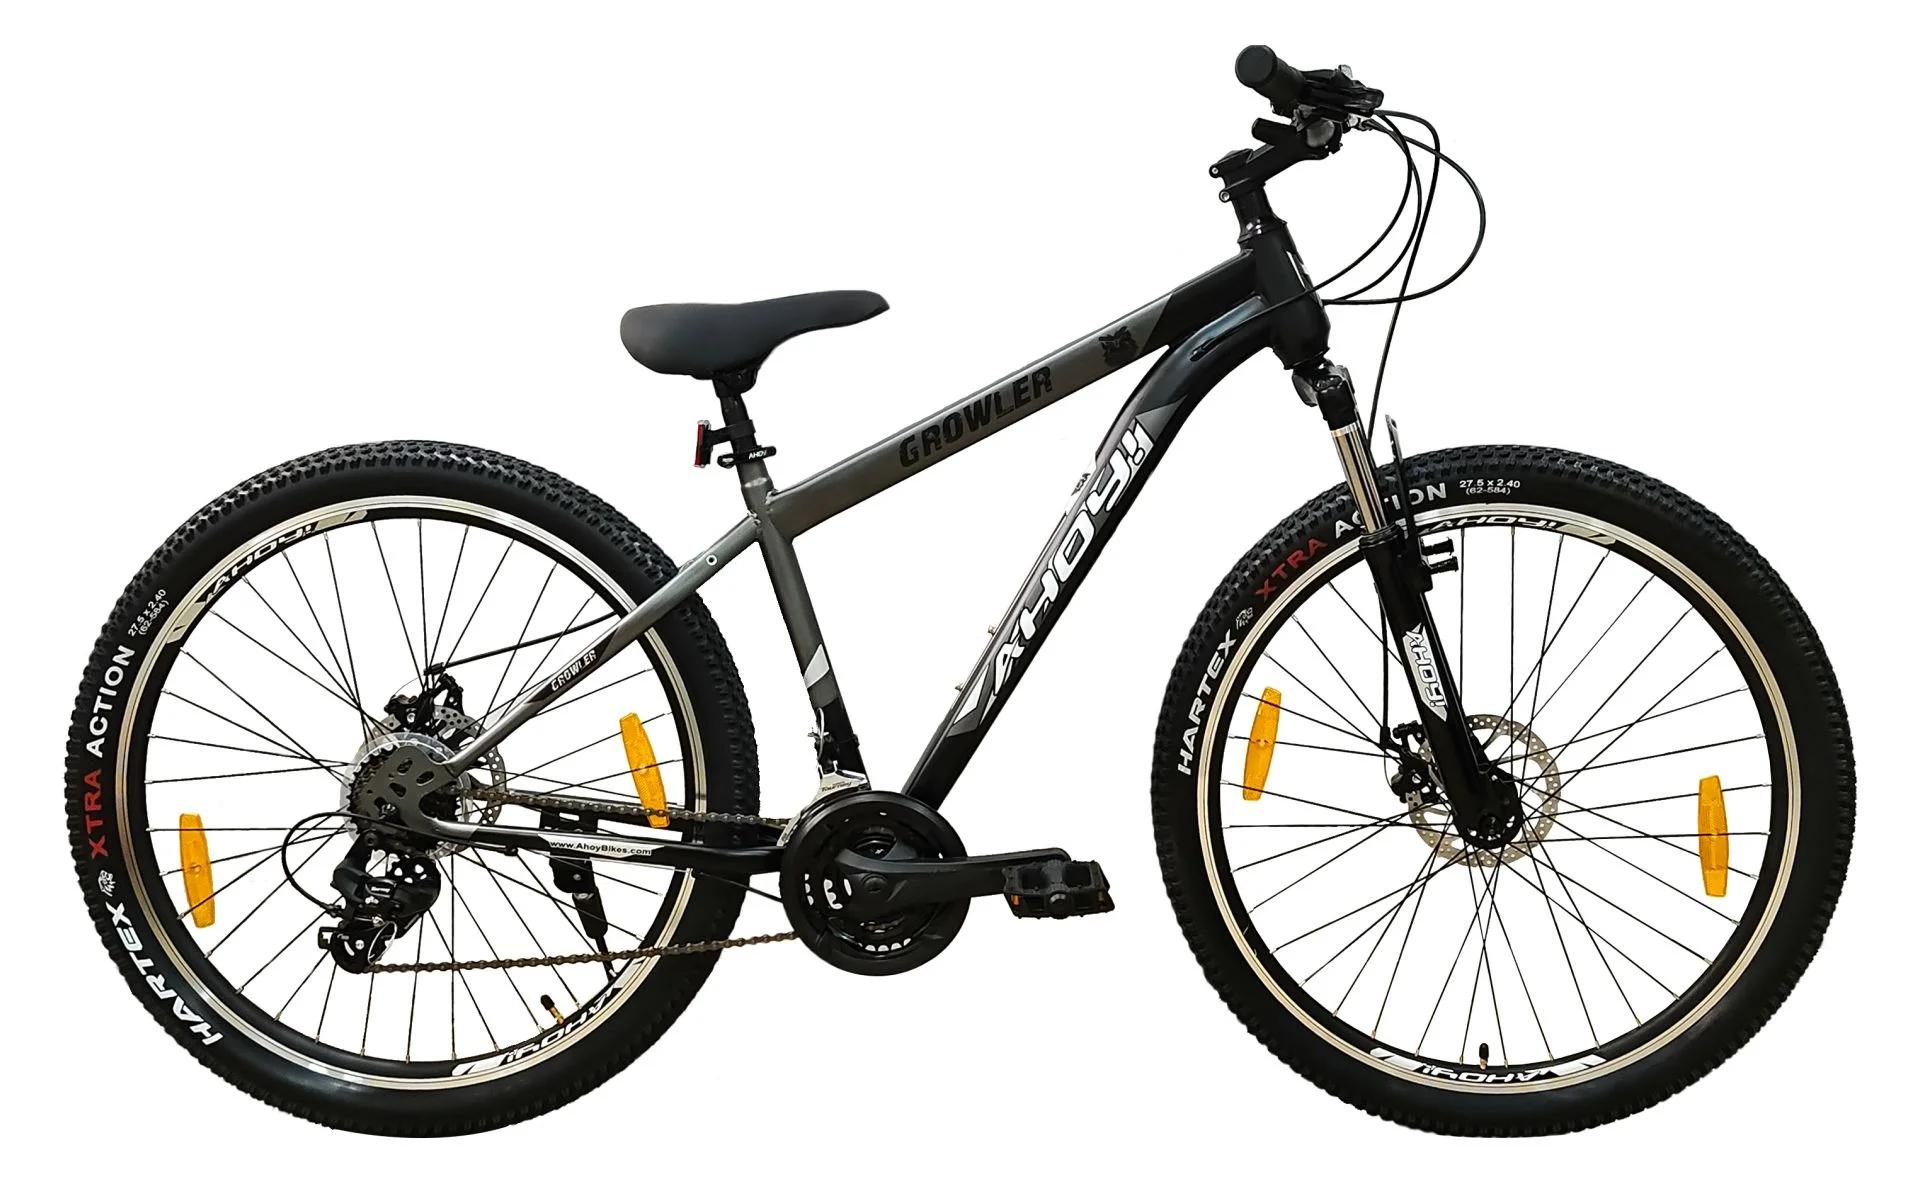bicycle: (14, 23, 1888, 1154)
